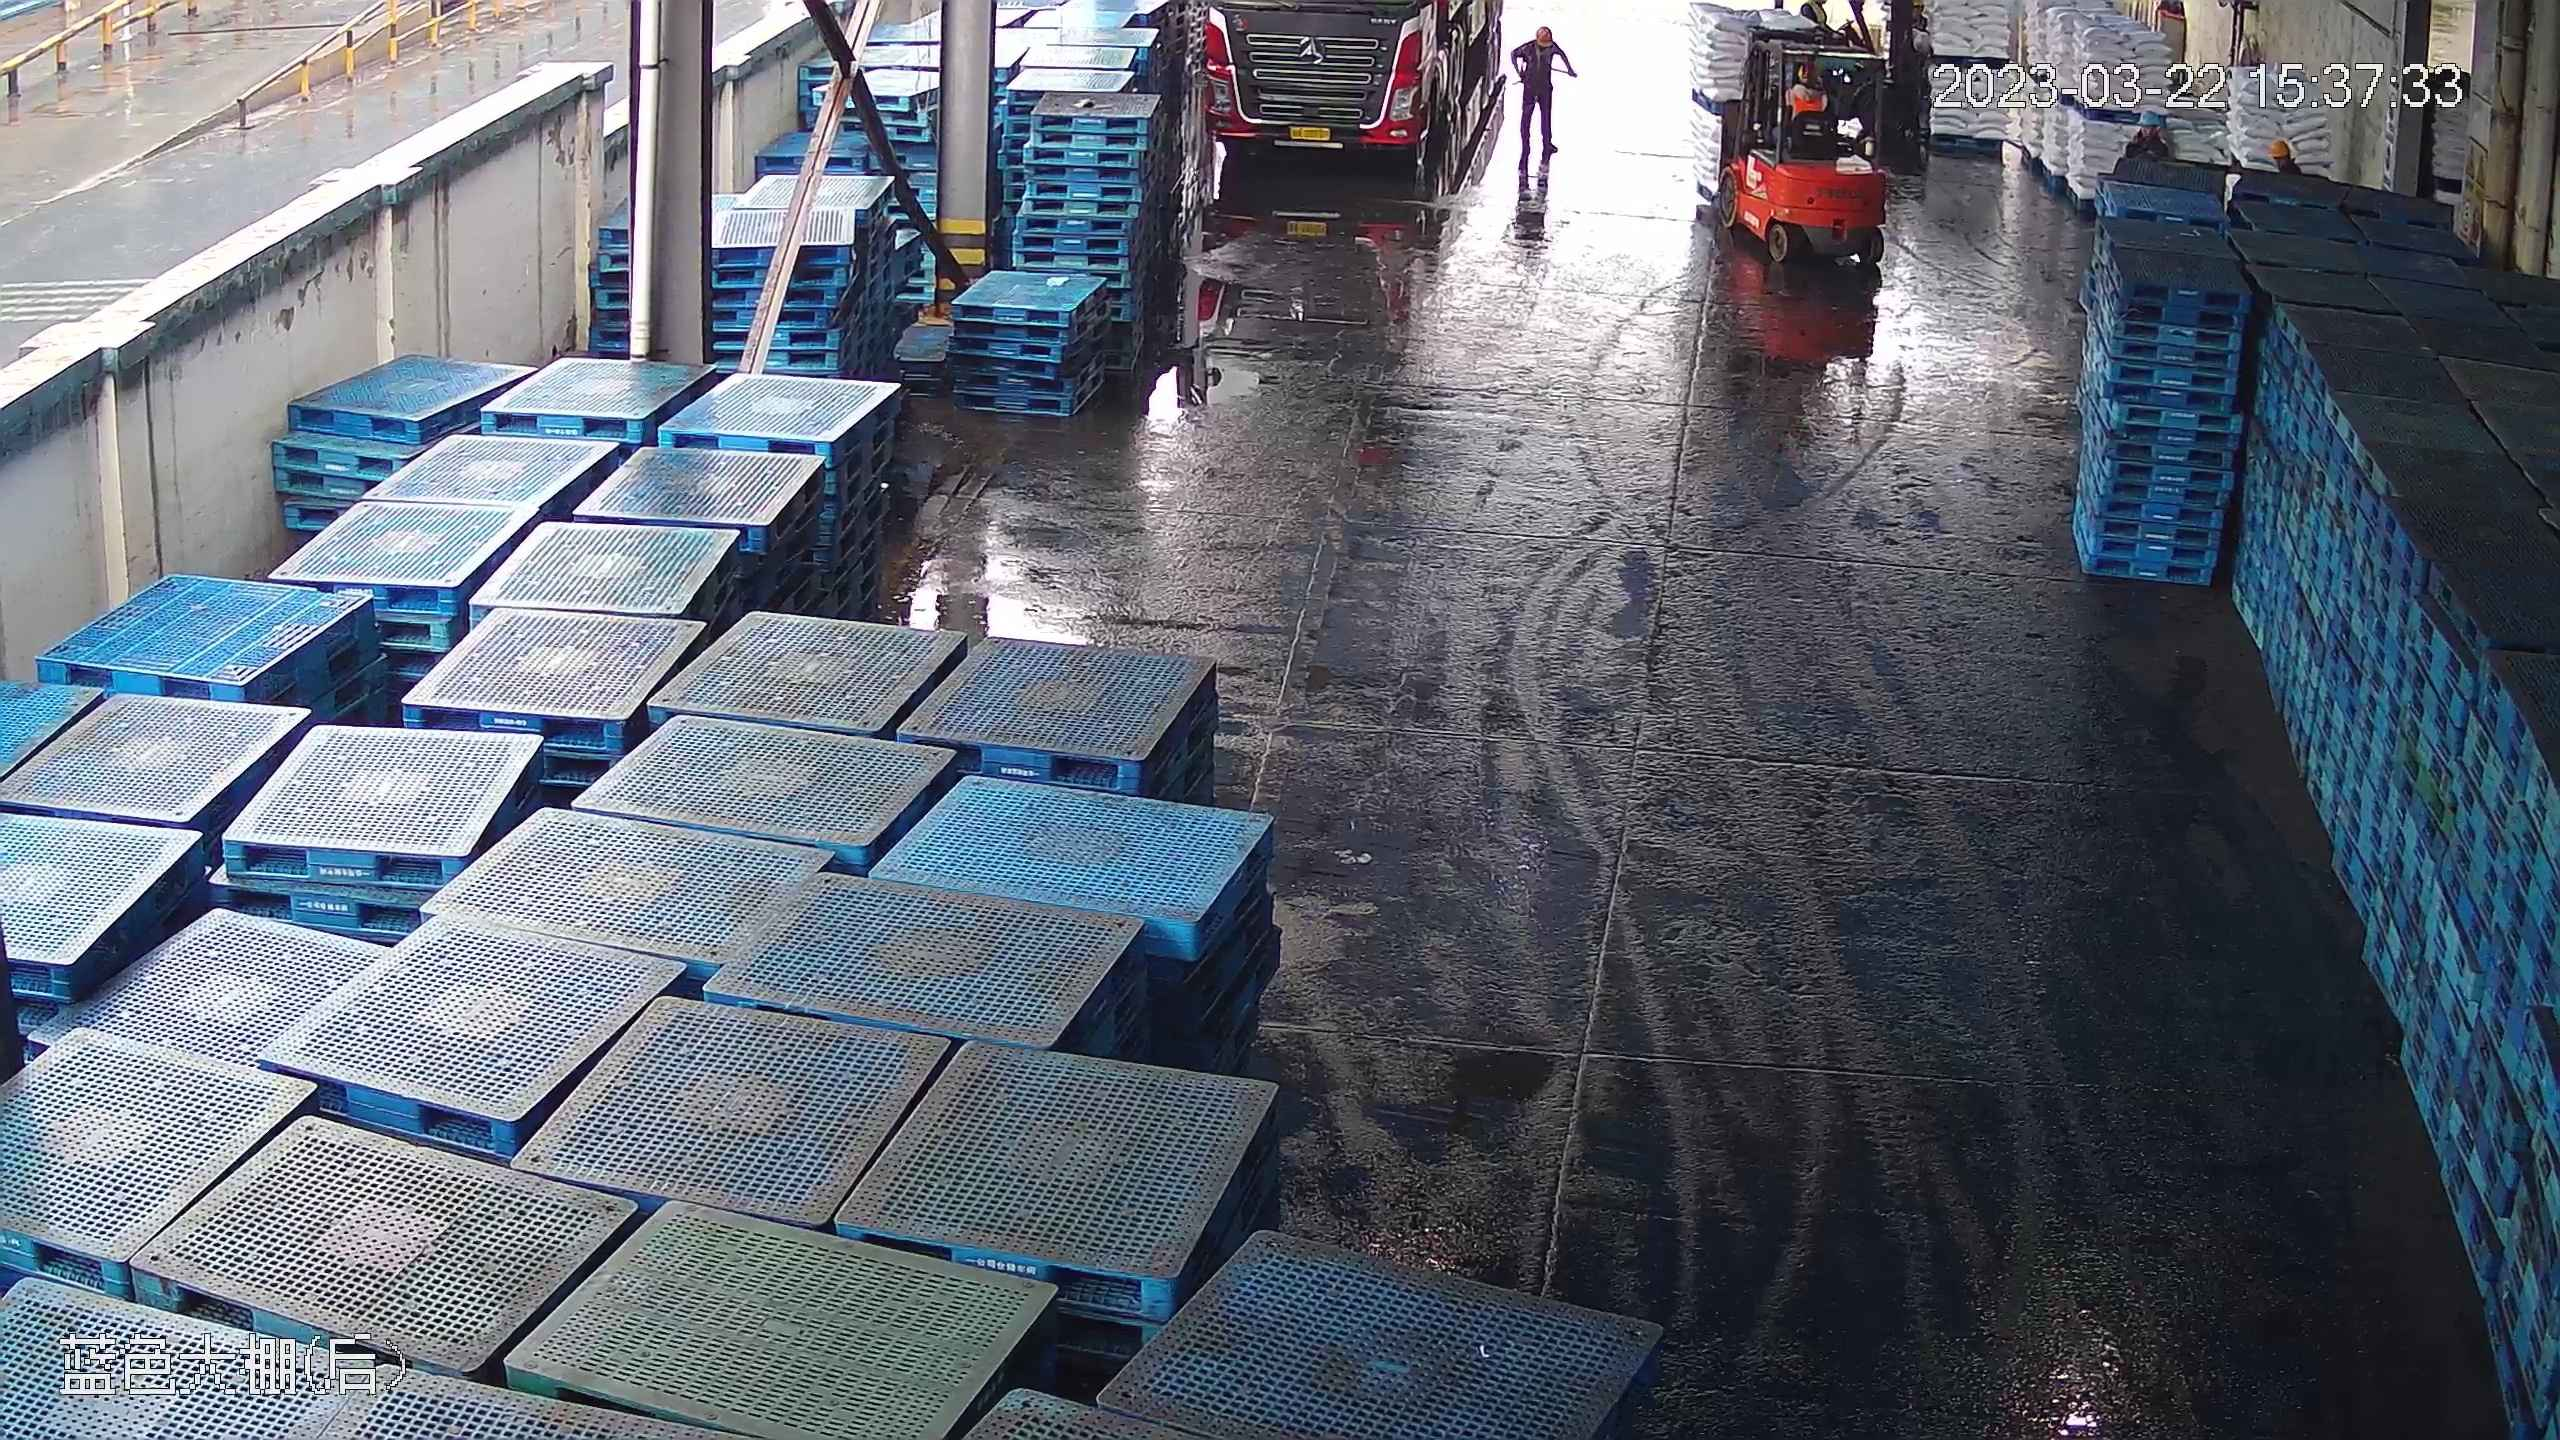head: (1517, 22, 1566, 78)
helmet: (1533, 24, 1554, 48)
people: (1512, 23, 1572, 158)
truck: (1197, 2, 1490, 167)
